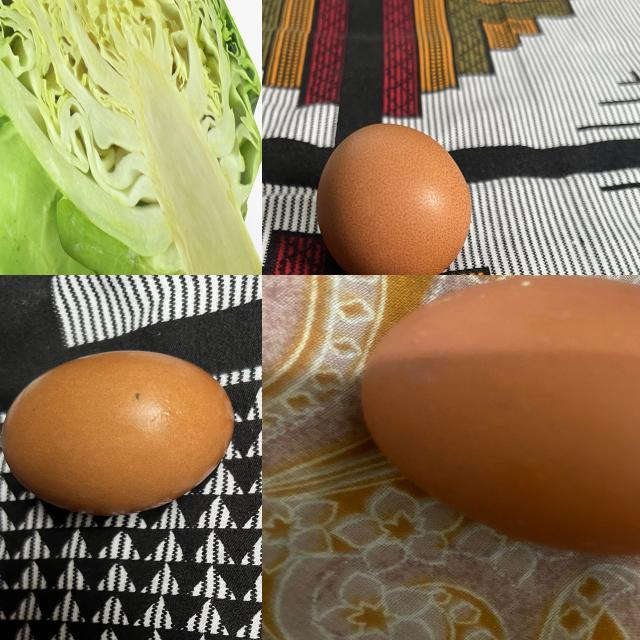cabbage: (1, 1, 263, 276)
egg: (351, 276, 640, 563), (1, 347, 241, 517), (312, 116, 473, 276)
